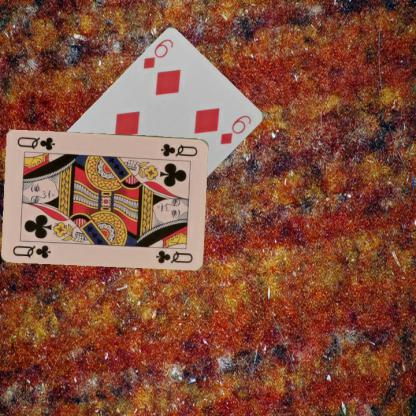6d: (140, 36, 175, 70)
Qc: (158, 140, 200, 158), (10, 242, 52, 260)
